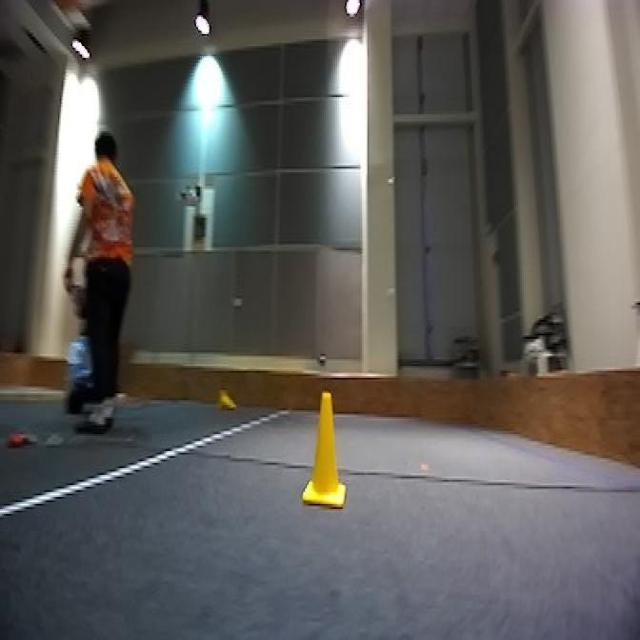frc_cone: (302, 388, 349, 521), (210, 383, 244, 415)
